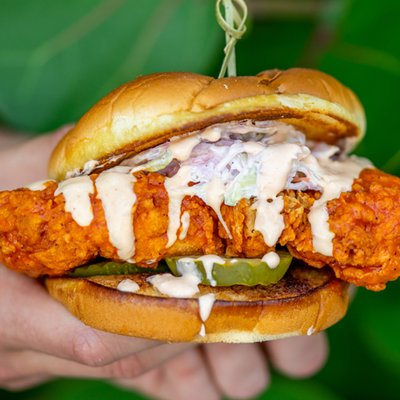salad: (214, 0, 248, 79)
